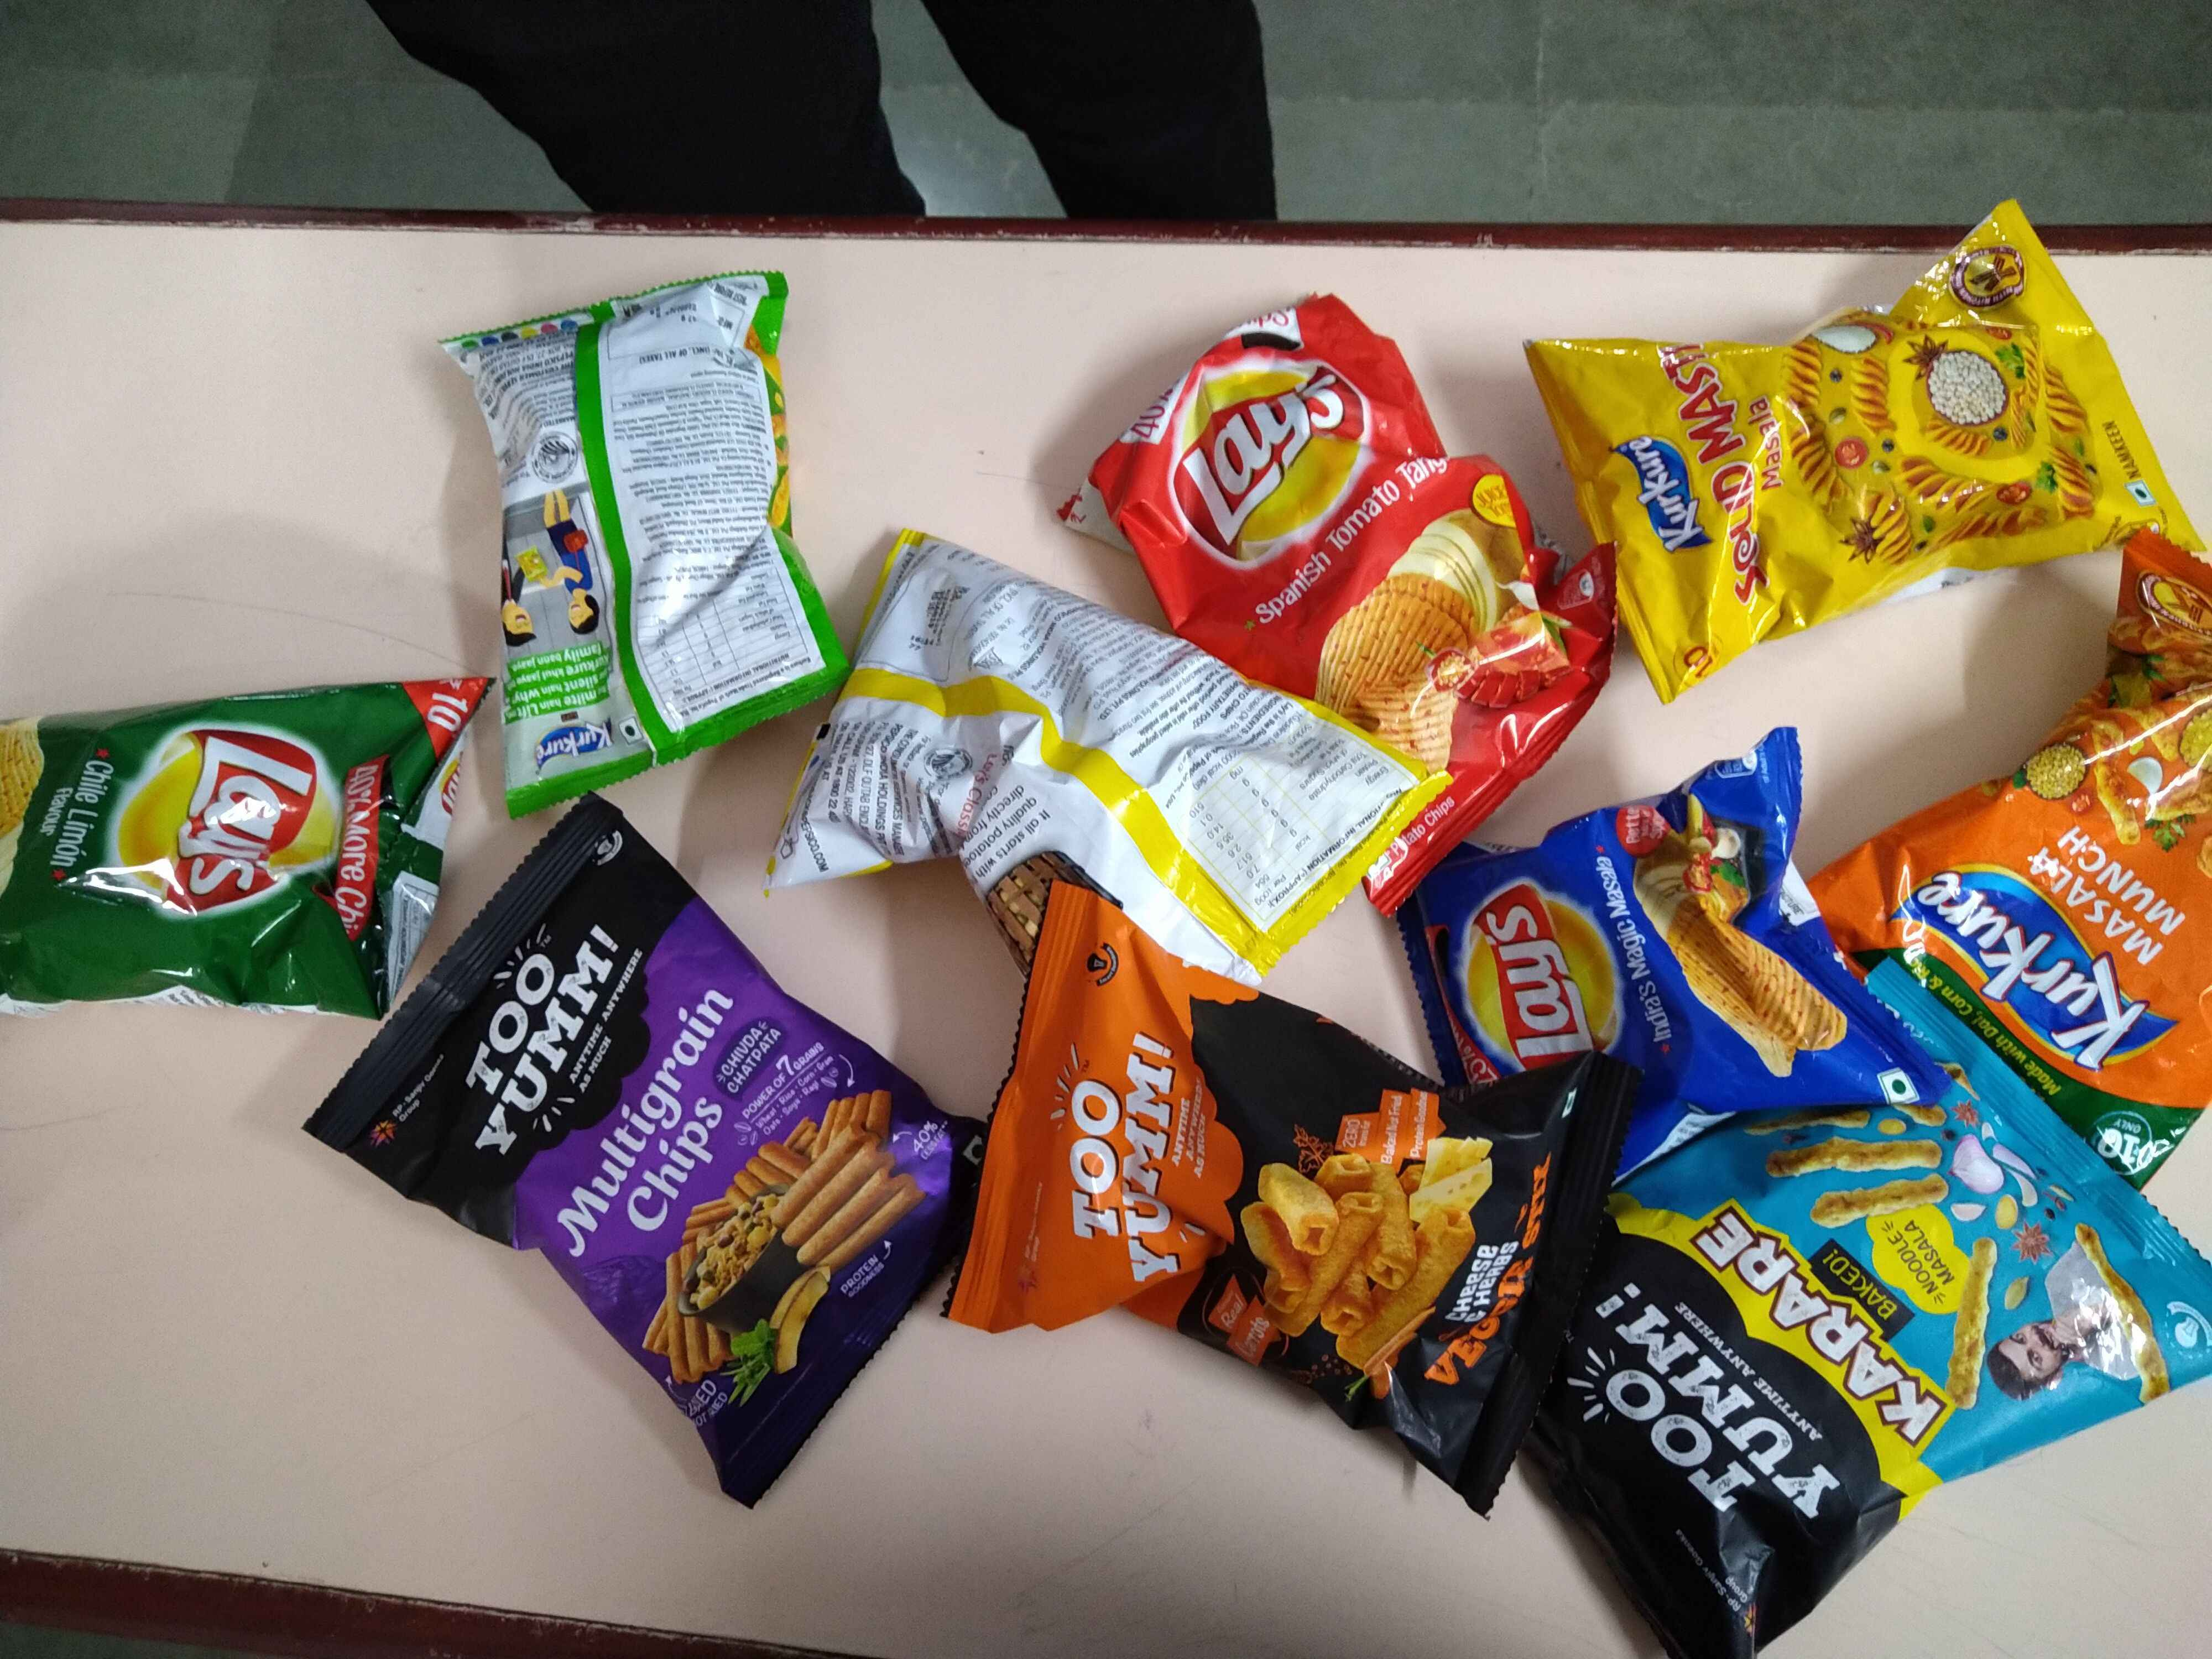Lays: (111, 725, 359, 931), (1163, 350, 1379, 579), (1446, 878, 1646, 1072), (432, 755, 470, 835)
kurkure: (1860, 840, 2195, 1089), (1601, 425, 1714, 566), (505, 720, 641, 782)
tooyumm: (1581, 1277, 1844, 1534), (439, 917, 641, 1162), (1062, 1019, 1209, 1298)
